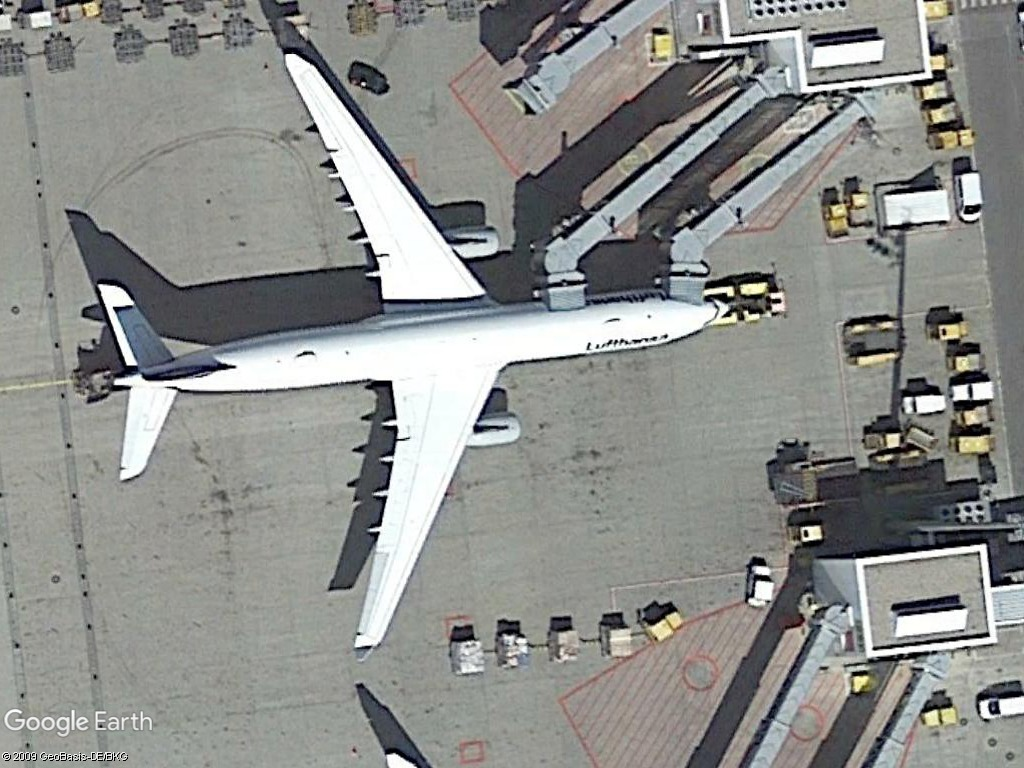airliner: (72, 46, 736, 671)
van: (949, 165, 986, 225)
